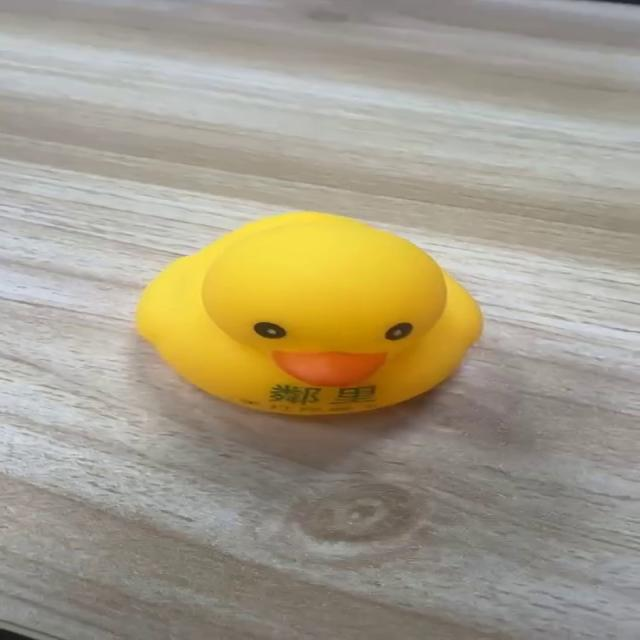yellow_duck: (132, 208, 484, 416)
